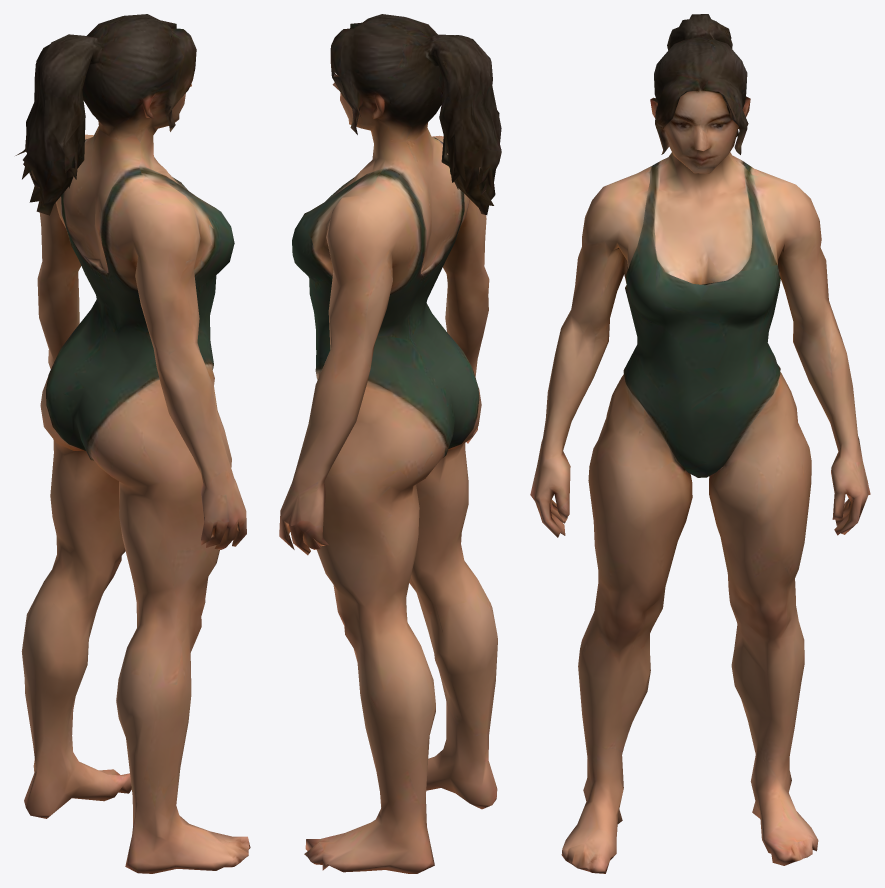
The model's file is zs_frau_steht.glb.
3 views of the same model, side by side, from view 1: azimuth 30°, elevation 25°; view 2: azimuth 150°, elevation 25°; view 3: azimuth 270°, elevation 25° (orthographic).
Parts seen in each view (by area): view 1: tripo_node_338621e2-6301-4e33-8a2a-f765fe1b1768; view 2: tripo_node_338621e2-6301-4e33-8a2a-f765fe1b1768; view 3: tripo_node_338621e2-6301-4e33-8a2a-f765fe1b1768.
Boxes of the visible parts, bbox=[...] form: tripo_node_338621e2-6301-4e33-8a2a-f765fe1b1768: bbox=[15, 14, 250, 873]; tripo_node_338621e2-6301-4e33-8a2a-f765fe1b1768: bbox=[279, 14, 501, 873]; tripo_node_338621e2-6301-4e33-8a2a-f765fe1b1768: bbox=[530, 14, 870, 873].
Bounding box in the file's own units: 0.2402 × 1 × 0.3839.
Materials: 1 (1 with a texture image).
